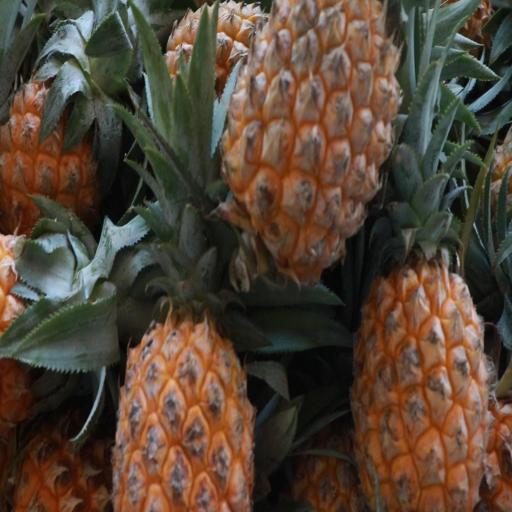Pineapple - v8 v1: (216, 0, 407, 300), (347, 151, 494, 512), (110, 239, 259, 512), (0, 23, 118, 241)
